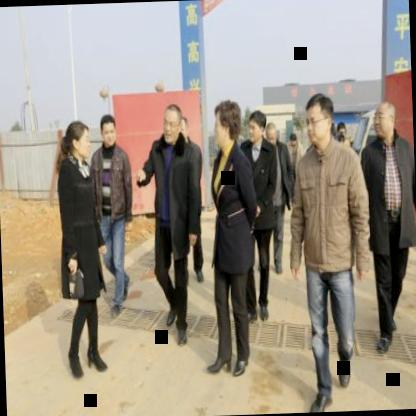head: (302, 90, 338, 151), (212, 99, 241, 156), (64, 115, 94, 162), (371, 96, 400, 144), (160, 100, 186, 145), (245, 108, 268, 148), (99, 113, 119, 150), (265, 118, 279, 150)
